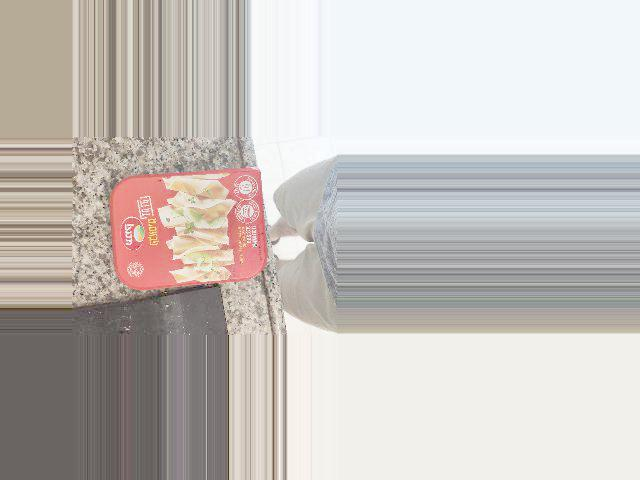cheese: (138, 184, 296, 308)
